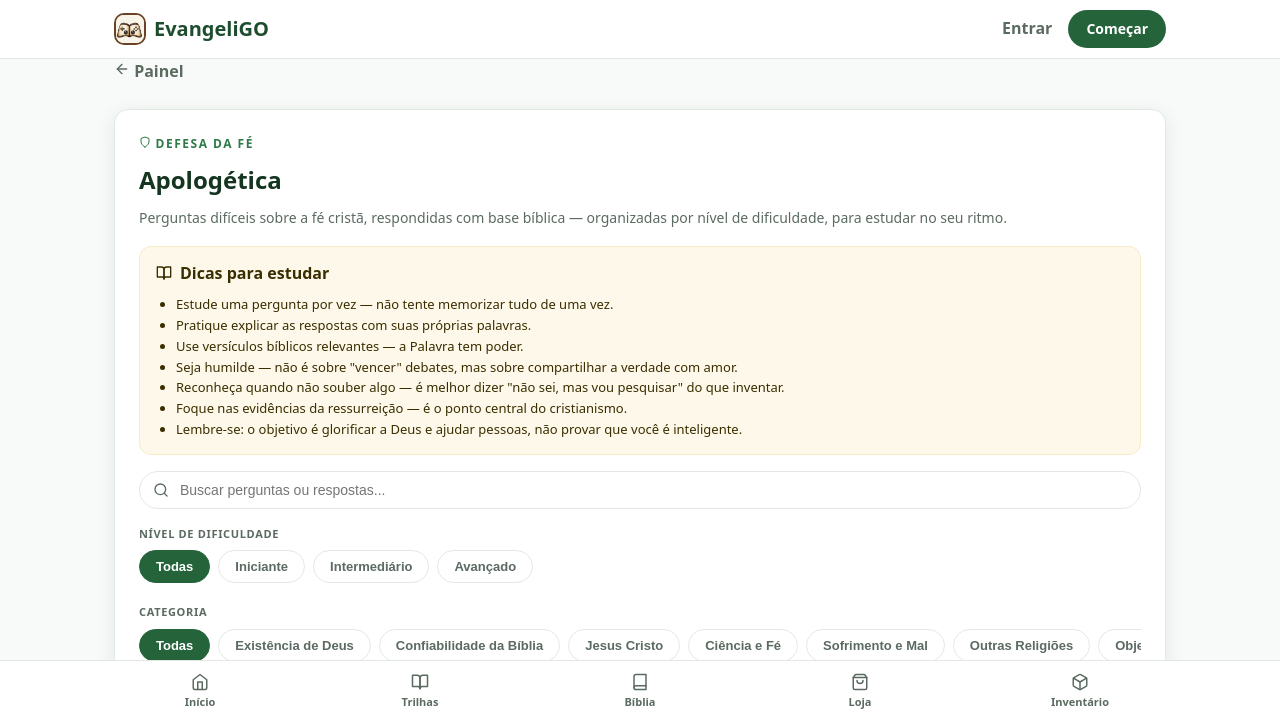
Test: ApologeticaPage › mostra o estado vazio quando a busca não encontra nada
The width and height of the screenshot is (1280, 720).
Type "xxxxxnaoexistexxxxx" into the field with placeholder "Buscar perguntas ou respostas..." at (640, 490), box left=139, top=471, right=1141, bottom=509
(page scrolled)
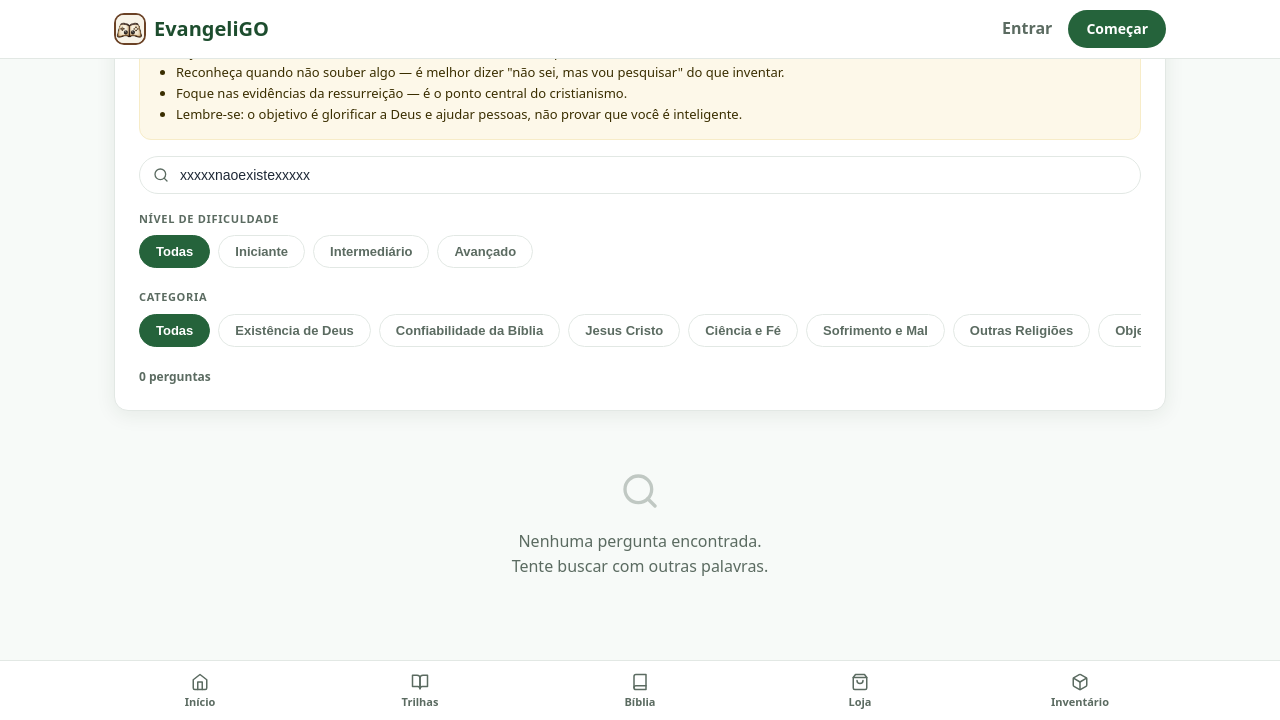
Expected: the text "Nenhuma pergunta encontrada." is shown, left=518, top=530, right=762, bottom=552
